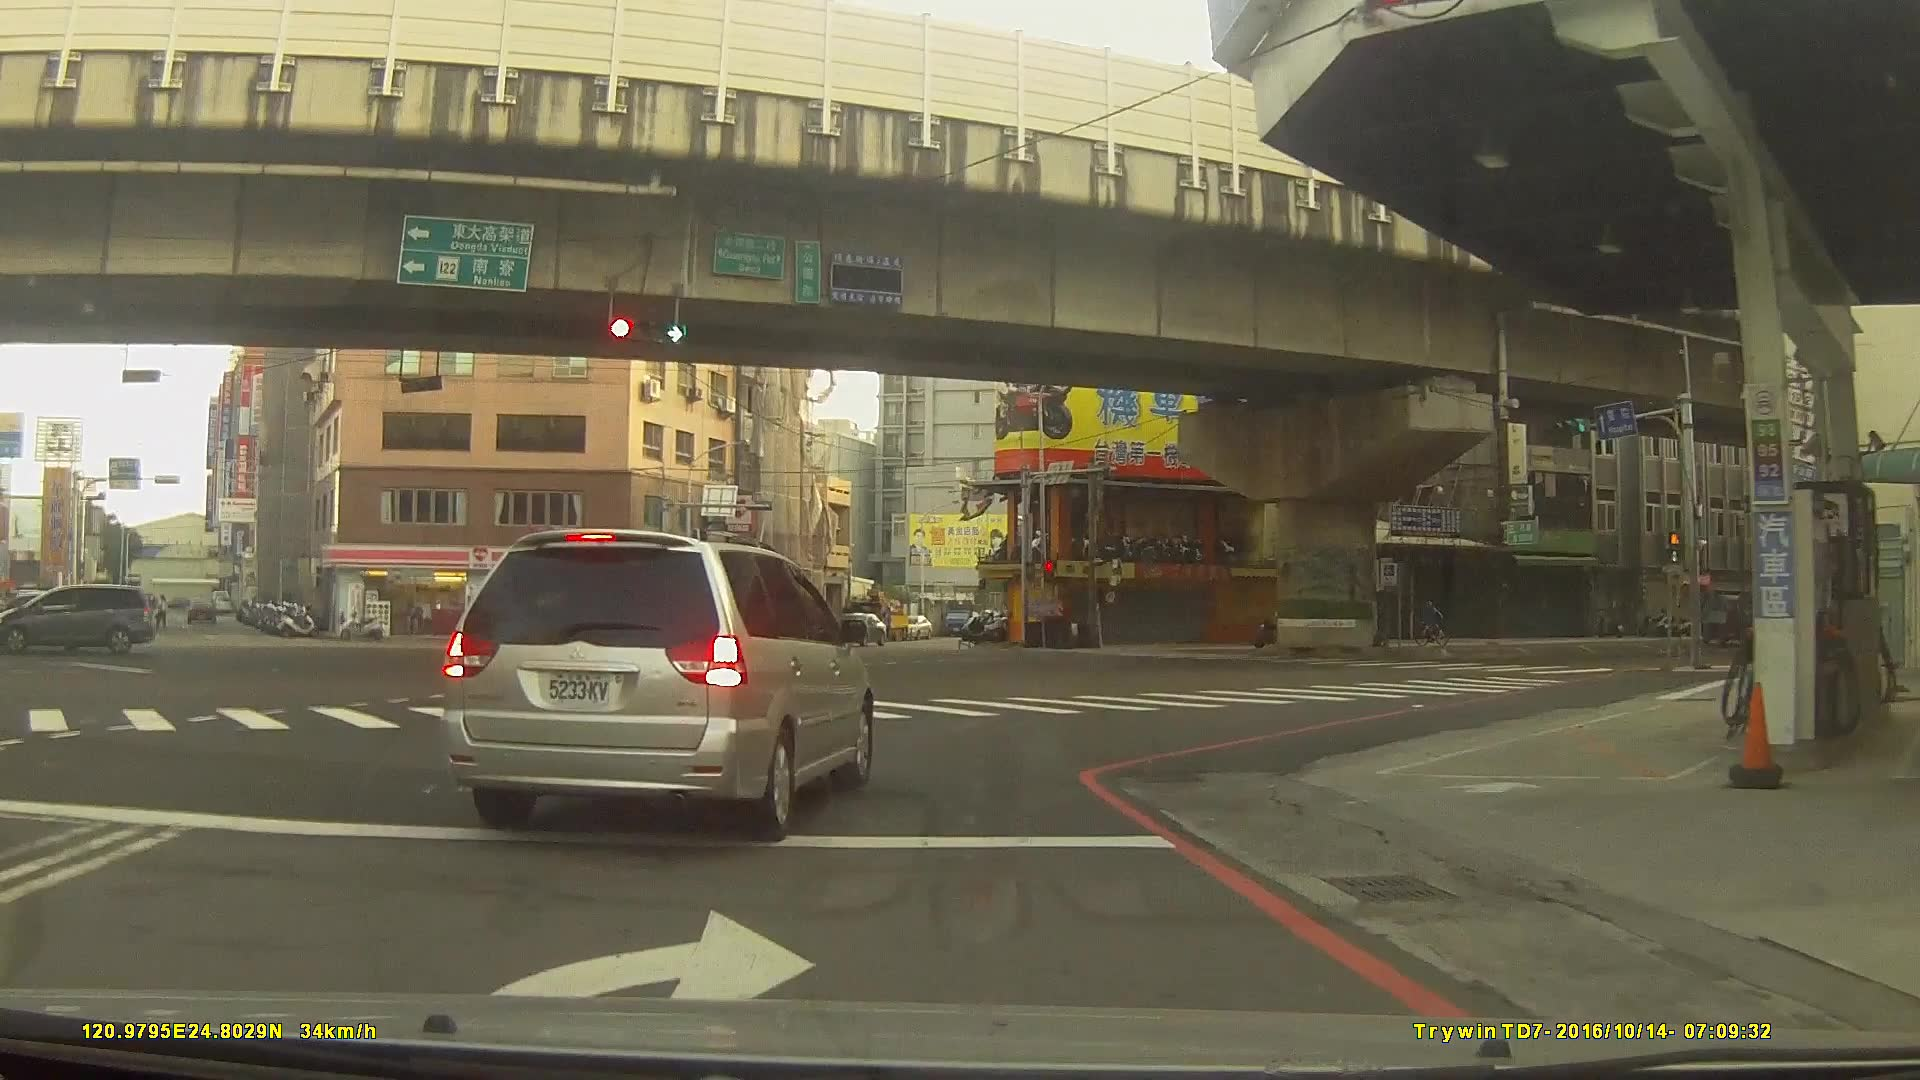vehicle: (444, 527, 876, 843), (0, 582, 153, 653), (1701, 584, 1774, 647), (824, 615, 887, 650), (543, 607, 605, 633), (185, 593, 218, 625)
